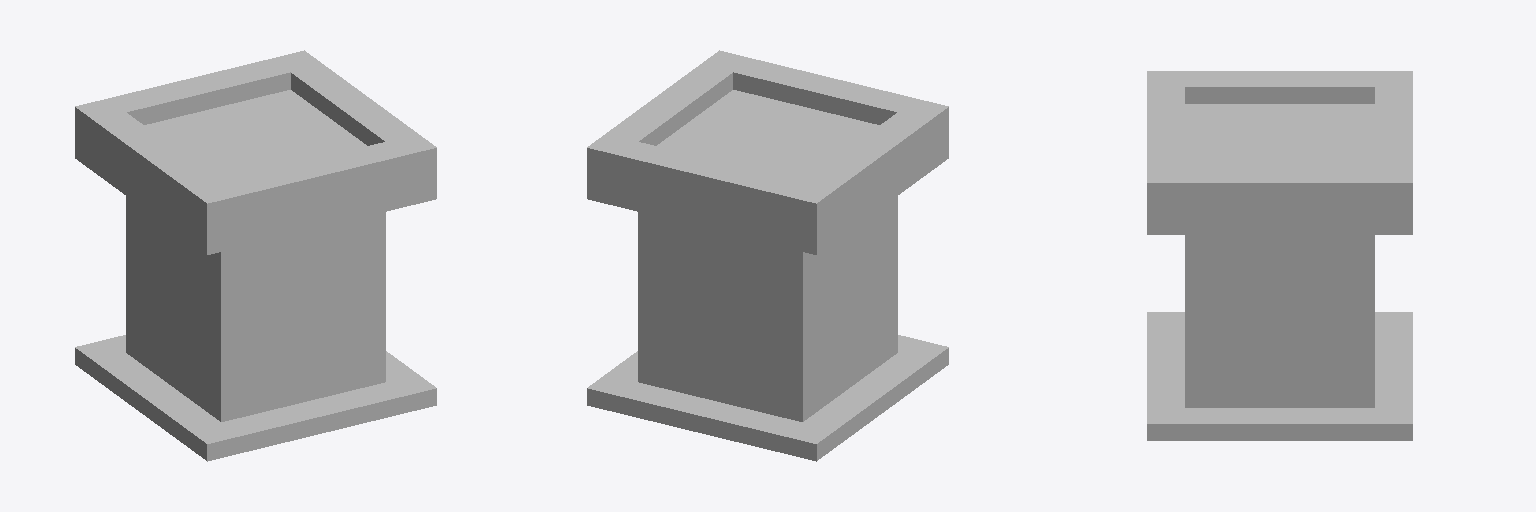
File: starlight_infuser_-_converted.obj
3 views of the same model, side by side, from view 1: azimuth 30°, elevation 25°; view 2: azimuth 150°, elevation 25°; view 3: azimuth 270°, elevation 25° (orthographic).
Parts seen in each view (by area): view 1: cube; view 2: cube; view 3: cube.
Boxes of the visible parts, box(x1,y1,x2,y2) form: cube: box(75, 50, 436, 461); cube: box(587, 50, 948, 461); cube: box(1147, 71, 1412, 440).
Size of the model in its own units: 0.875 by 0.9375 by 0.875.